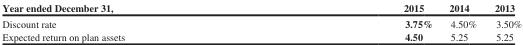table: (1, 1, 521, 41)
table column: (1, 1, 263, 41), (263, 1, 440, 41), (440, 1, 484, 41), (484, 1, 521, 41)
table column header: (1, 1, 521, 15)
table row: (1, 1, 521, 15), (1, 15, 521, 29), (1, 29, 521, 41)
